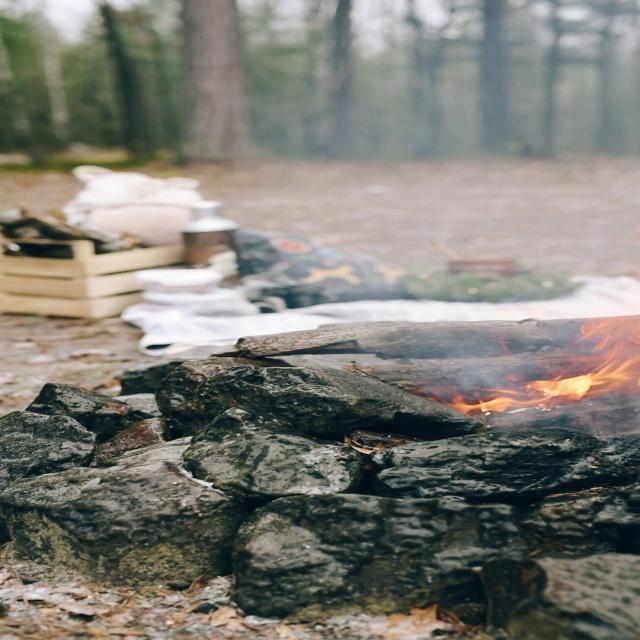Fire: (460, 308, 640, 417)
Smoke: (176, 16, 640, 350)
